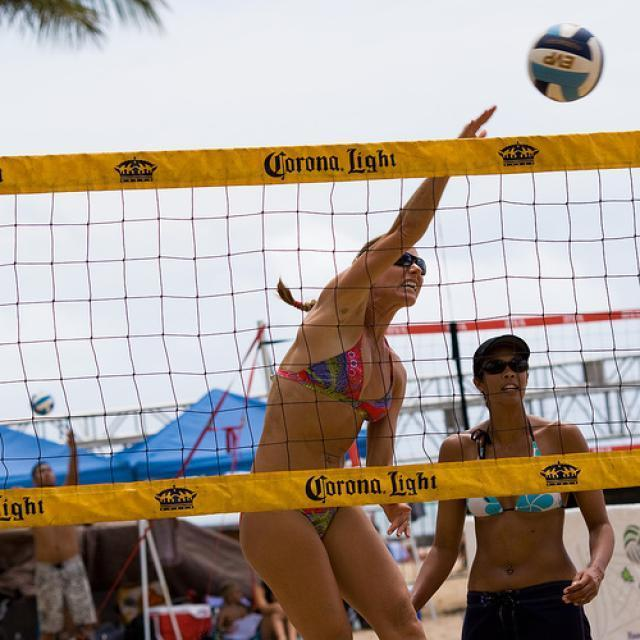volleyball: (526, 22, 604, 101)
